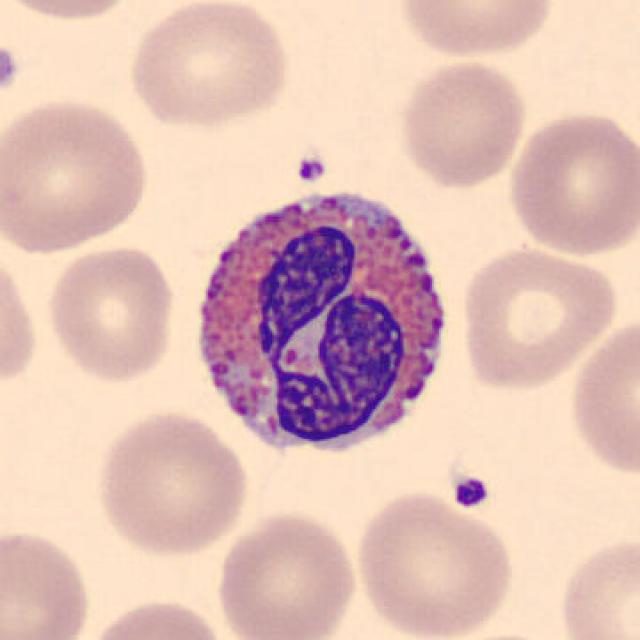Eosinophil: (178, 171, 468, 476)
Platelets: (448, 471, 494, 511), (291, 150, 329, 187), (0, 42, 23, 97)
RBC: (350, 486, 517, 640), (0, 94, 155, 258), (455, 242, 621, 393), (90, 405, 252, 559), (123, 0, 295, 132), (503, 106, 638, 261), (211, 506, 361, 640), (41, 242, 179, 386), (394, 56, 530, 190), (565, 312, 640, 481), (0, 523, 96, 640), (395, 0, 560, 62), (552, 530, 638, 640), (80, 594, 233, 640), (0, 240, 43, 398), (0, 0, 149, 24), (423, 627, 576, 640)
